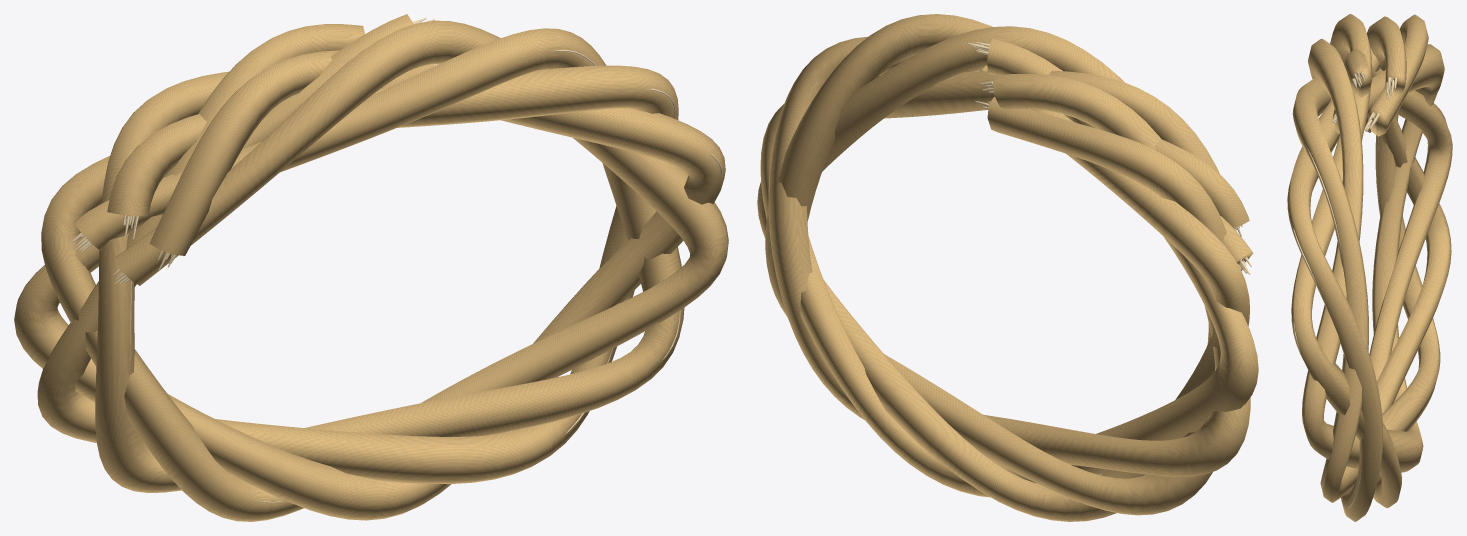
The model's file is lynx_sinew.glb.
The picture shows the model from 3 angles, left to right: view 1: azimuth 30°, elevation 25°; view 2: azimuth 150°, elevation 25°; view 3: azimuth 270°, elevation 25°; orthographic projection. The views are drawn at different scales.
Visible parts, largest first — view 1: Cream gold split lynx tendon, Pale tendon surface fibrils; view 2: Cream gold split lynx tendon; view 3: Cream gold split lynx tendon, Pale tendon surface fibrils.
Part boxes in pixels (left/top/right/bottom): Cream gold split lynx tendon: left=14, top=14, right=728, bottom=521; Pale tendon surface fibrils: left=70, top=18, right=723, bottom=502; Cream gold split lynx tendon: left=757, top=14, right=1258, bottom=521; Cream gold split lynx tendon: left=1287, top=14, right=1452, bottom=521; Pale tendon surface fibrils: left=1291, top=71, right=1397, bottom=508.
Bounding box in the file's own units: 0.1852 × 0.142 × 0.0488.
Materials: 2 (1 with a texture image).
